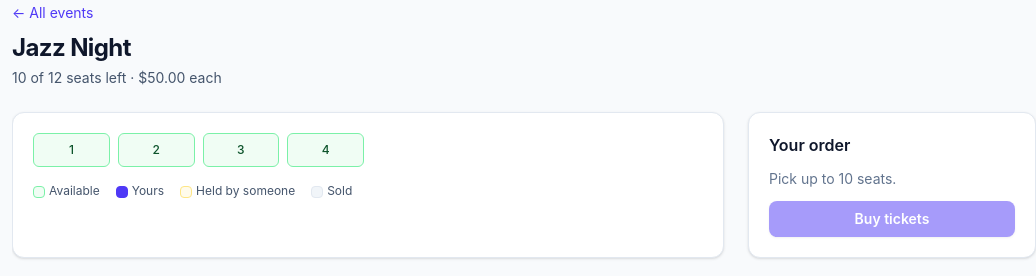
Test: EventPage › totals the selection from the price the server reported
Click the button named "Seat 1, available".
click(71, 150)  # box [33,133,110,167]
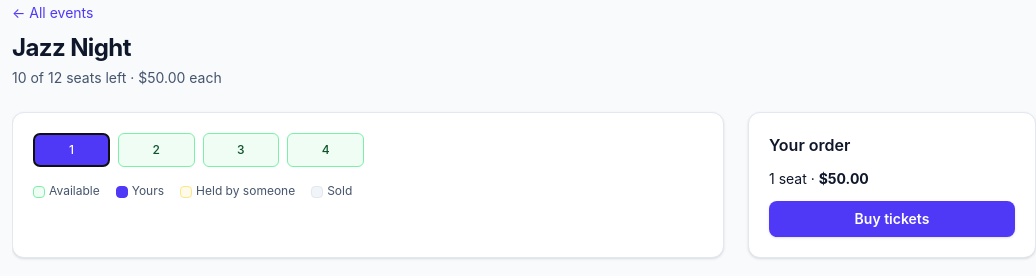
Click the button named "Seat 2, available".
click(156, 150)  # box [118,133,195,167]
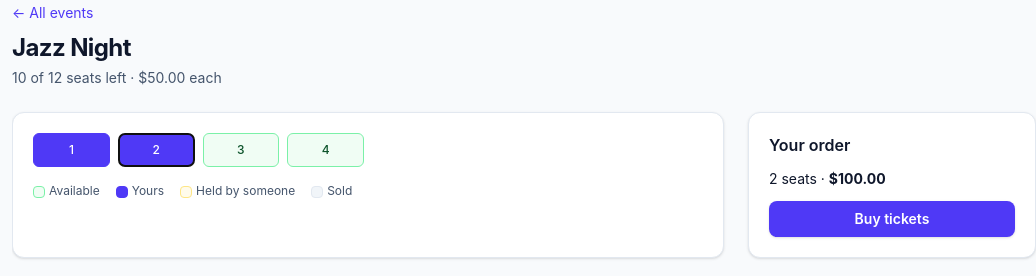
Result: the text "$100.00" is shown at [829,170,886,187]
